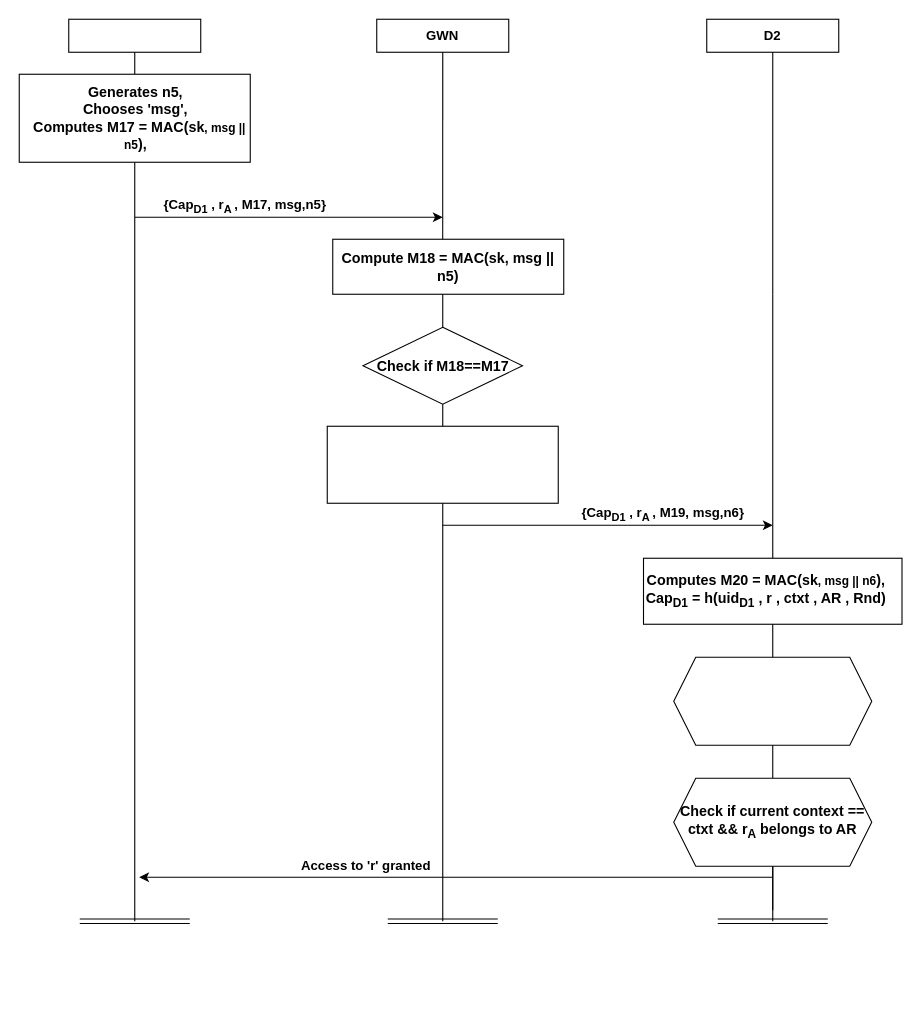
Some shapes in this 922 by 1019 pixel diagram are drawn without their labels. Here are the shapes that lost their labels. From the top down, the centre of each, then its label:
At [134,35]: "D1".
At [442,464]: "Generates n6, Choose 'msg' , Computes M19 = MAC(sk, msg || n6)".
At [772,700]: "Check if M20==M19 && Computed Cap D1 == Received Cap D1".
